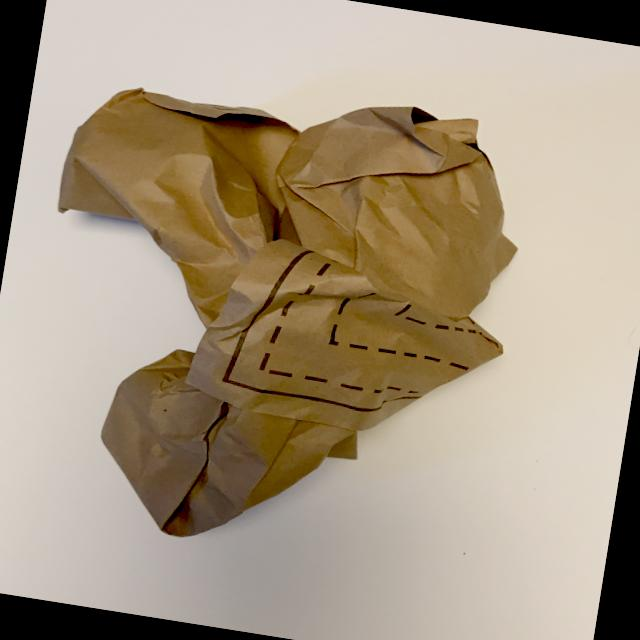Paper: (2, 51, 540, 592)
